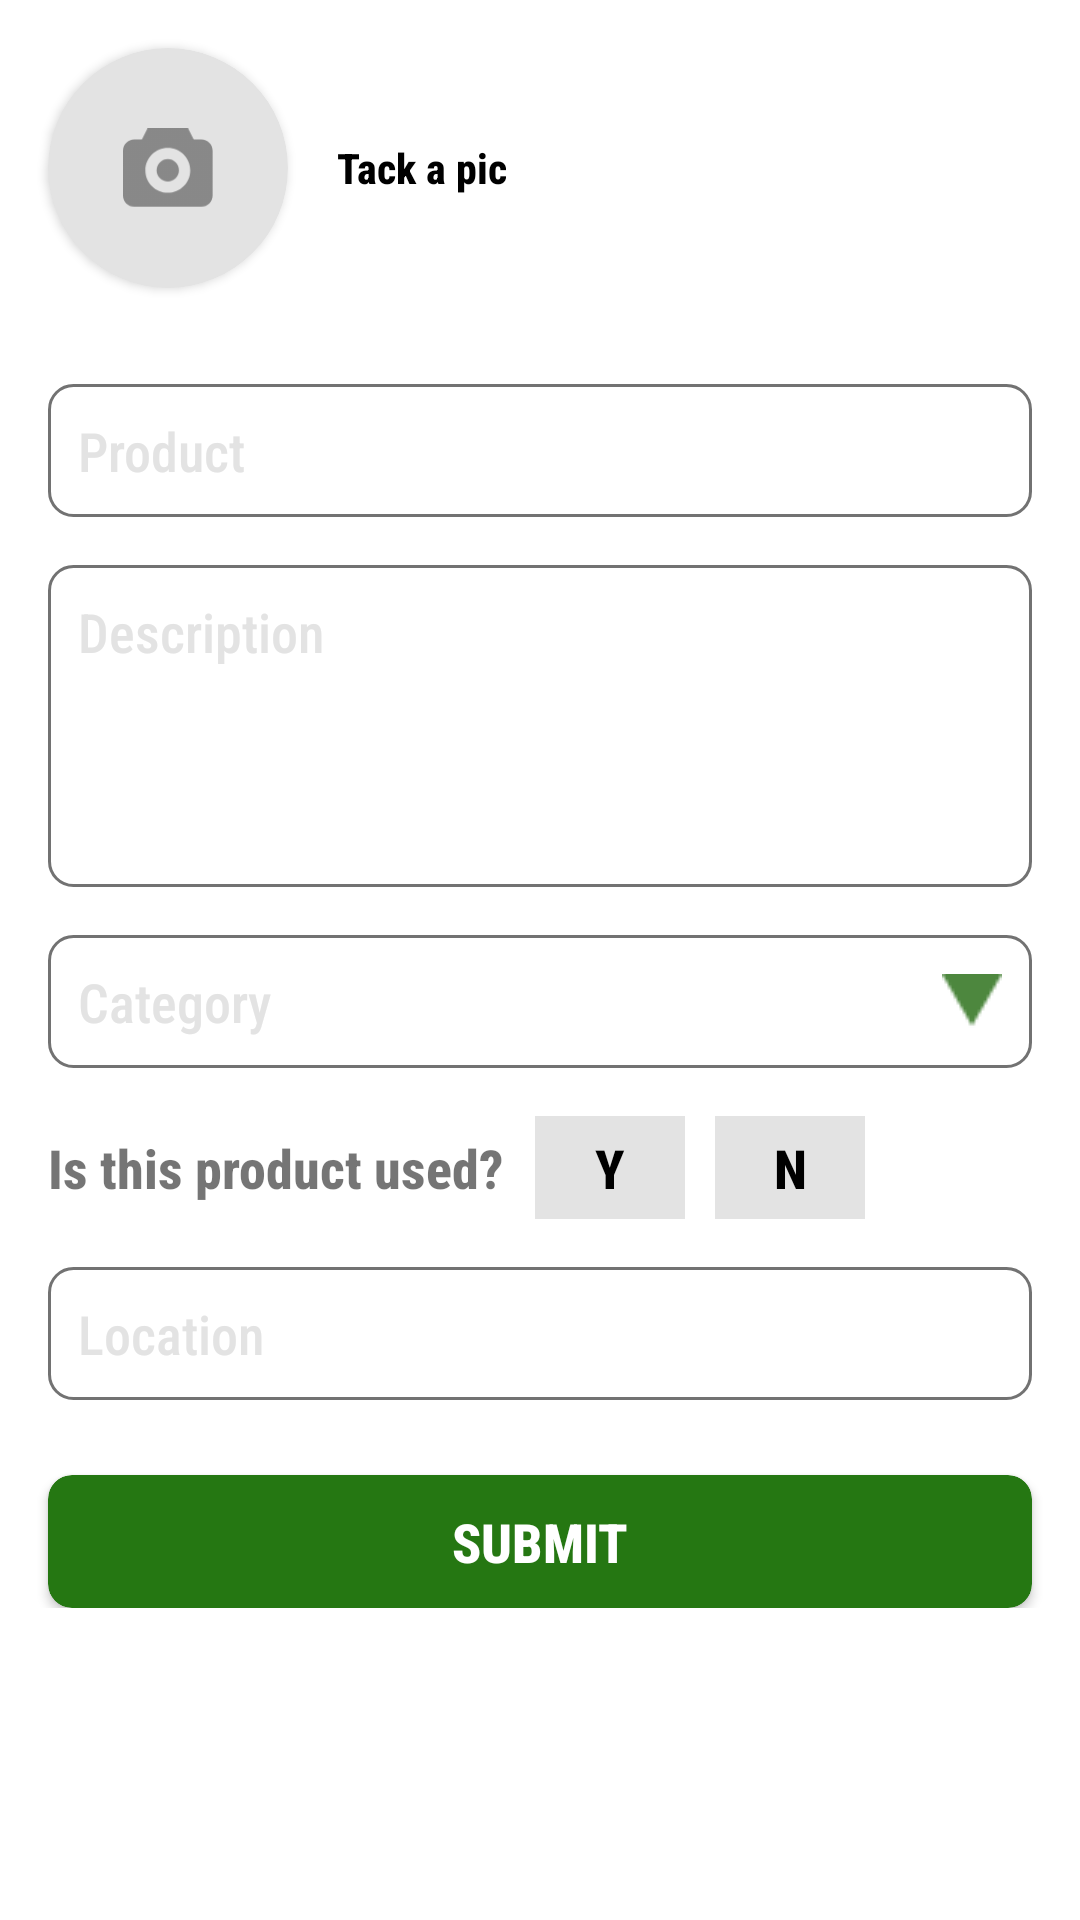

Icons on this 1080 × 1920 Android screen, each with the point to tap as point (x, y):
photo: point (168, 168)
